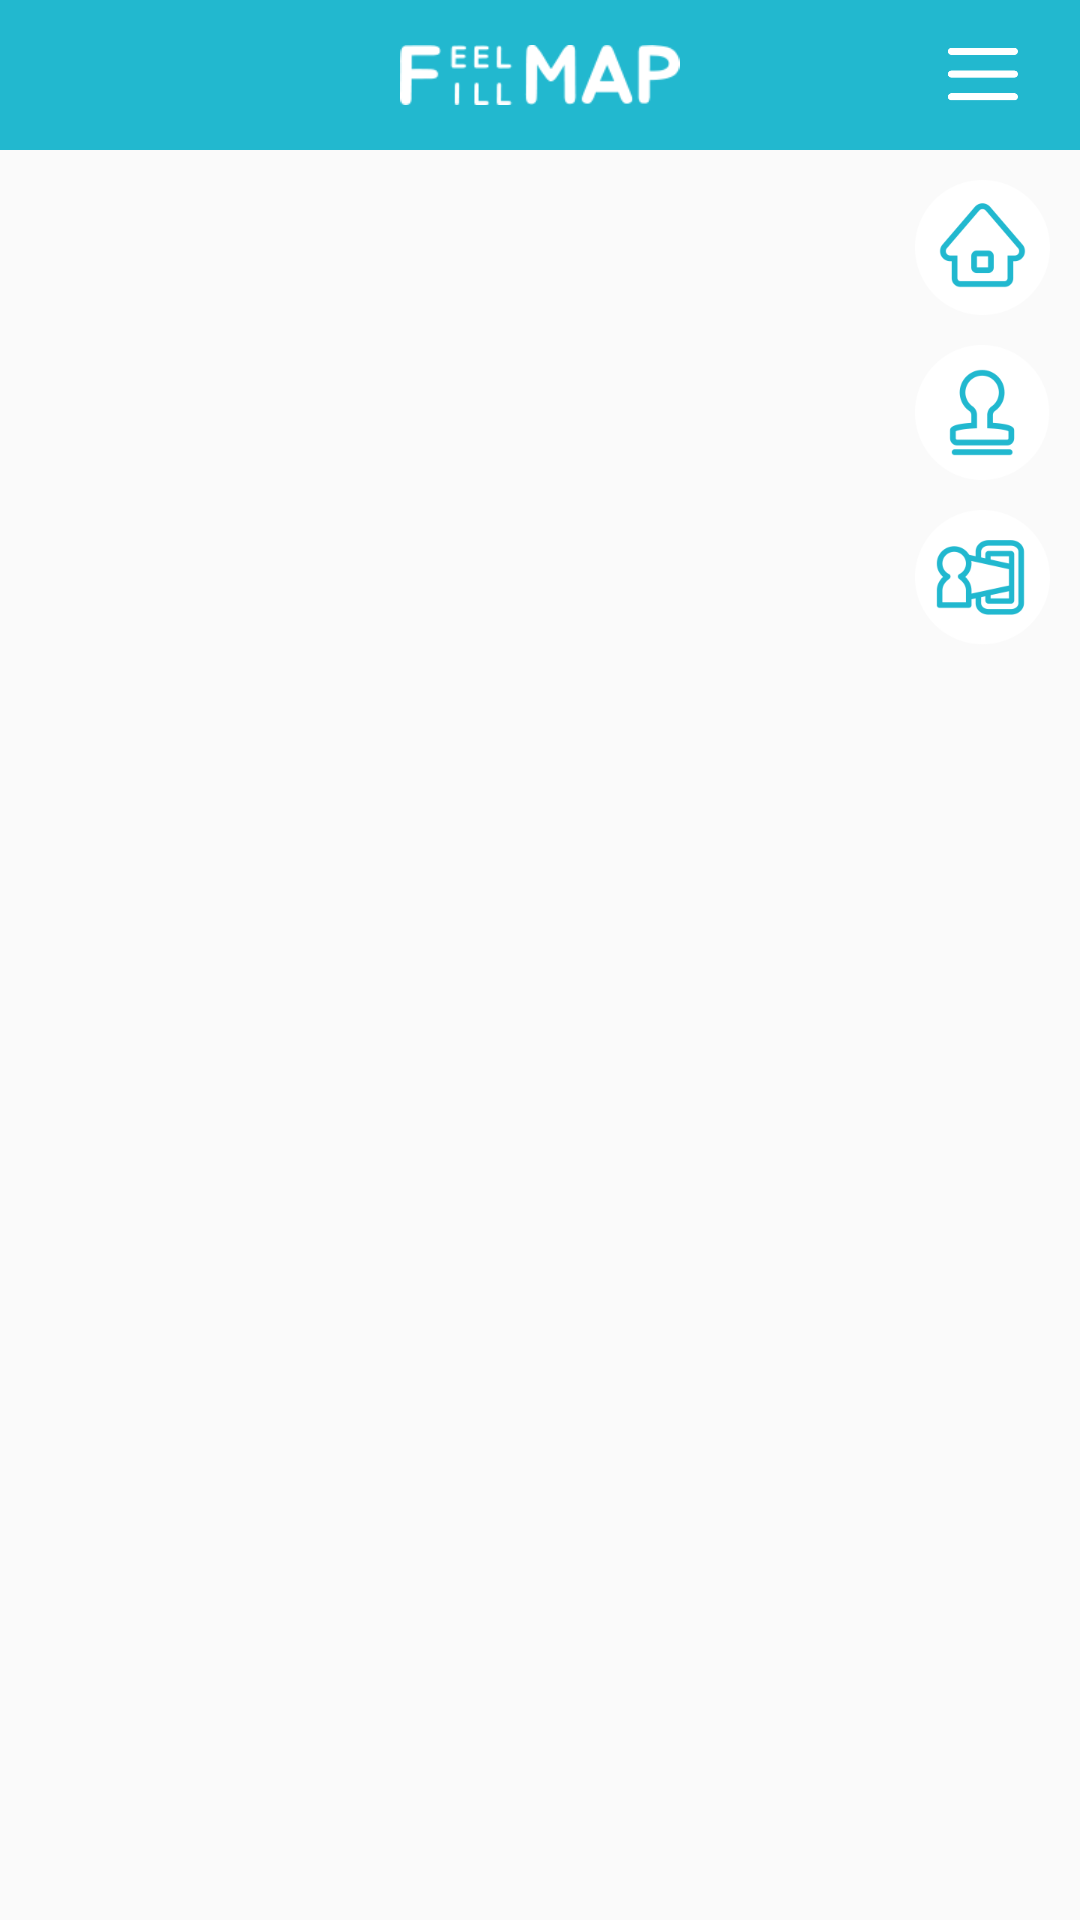

Icon click points for this 1080px x 1920px phone screenshot, format point (x, y):
base menu: point (983, 74)
